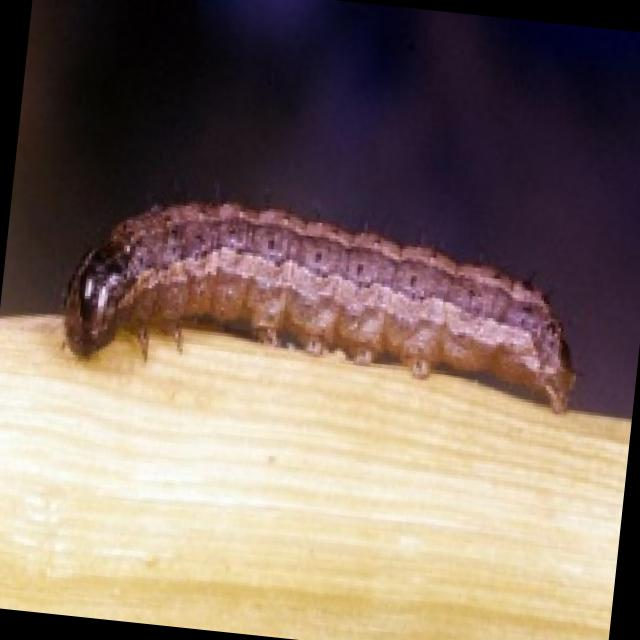armyworm: (39, 176, 601, 437)
